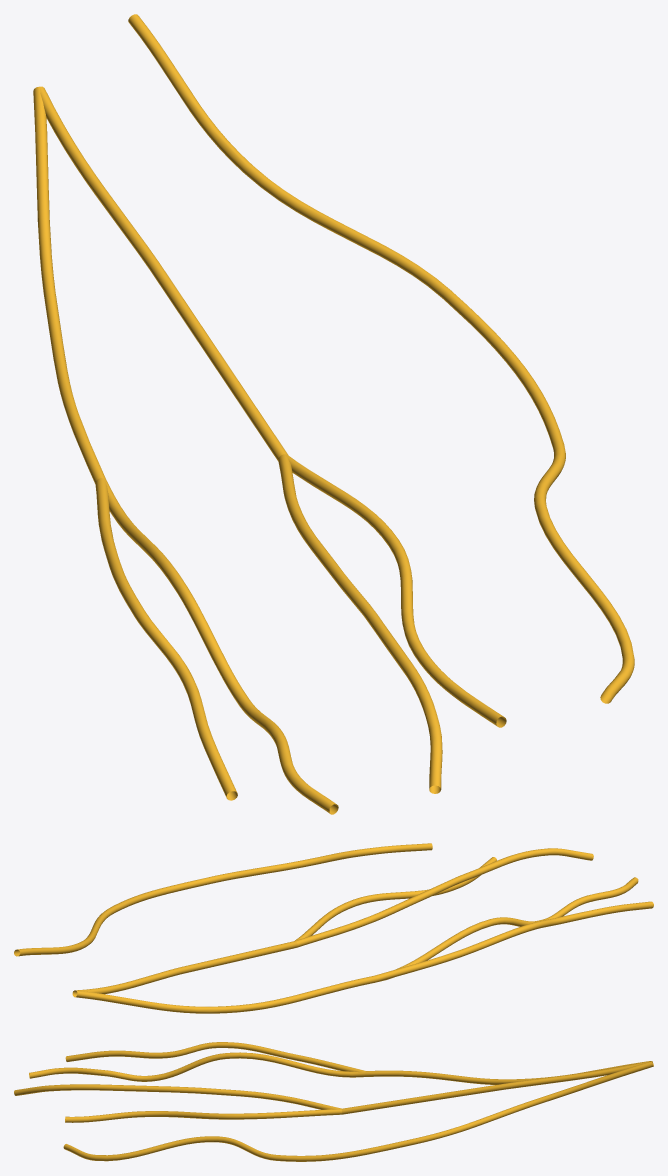
The model's file is nervoso-common-plantar-digital-branches-of-medial-plantar-nerve.glb.
The picture shows the model from 3 angles, top to bottom: view 1: azimuth 30°, elevation 25°; view 2: azimuth 150°, elevation 25°; view 3: azimuth 270°, elevation 25°; orthographic projection. The views are drawn at different scales.
Parts seen in each view (by area): view 1: Proper plantar digital branches of medial plantar nerve.r, Common plantar digital branches of medial plantar nerve; view 2: Proper plantar digital branches of medial plantar nerve.r, Common plantar digital branches of medial plantar nerve; view 3: Proper plantar digital branches of medial plantar nerve.r, Common plantar digital branches of medial plantar nerve.
Part boxes in pixels (box(x1,y1,x2,y2)): Proper plantar digital branches of medial plantar nerve.r: box(95, 290, 634, 814); Common plantar digital branches of medial plantar nerve: box(33, 14, 451, 483); Proper plantar digital branches of medial plantar nerve.r: box(113, 843, 653, 982); Common plantar digital branches of medial plantar nerve: box(14, 906, 377, 1013); Proper plantar digital branches of medial plantar nerve.r: box(14, 1042, 414, 1161); Common plantar digital branches of medial plantar nerve: box(341, 1061, 653, 1144).
Size of the model in its own units: 0.0554 by 0.0221 by 0.1063.
